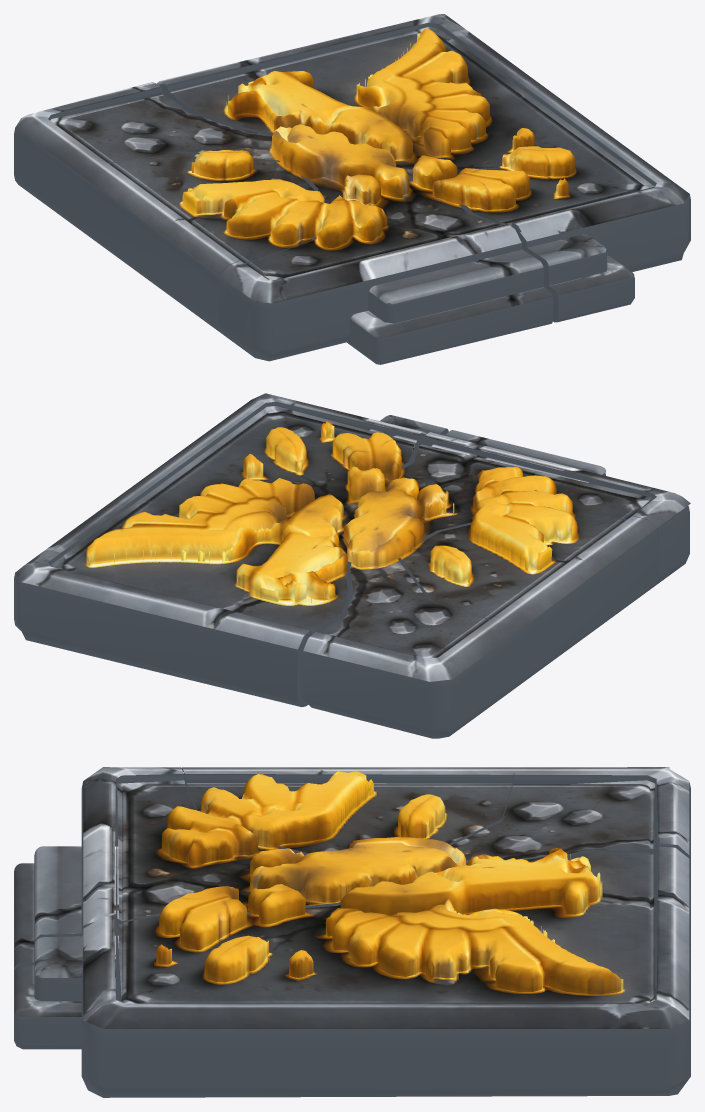
The model's file is eagle-destroyed-photo.glb.
3 views of the same model, one above another, from view 1: azimuth 30°, elevation 25°; view 2: azimuth 150°, elevation 25°; view 3: azimuth 270°, elevation 25° (orthographic). The views are drawn at different scales.
Visible parts, largest first — view 1: Fragment_6, Fragment_7, Fragment_1, BrokenGoldPiece00, Fragment_0, BrokenGoldPiece21, Fragment_8, Fragment_10, Fragment_2, BrokenGoldPiece17, Fragment_9, BrokenGoldPiece11 (+4 smaller); view 2: Fragment_6, Fragment_7, Fragment_1, BrokenGoldPiece00, Fragment_0, Fragment_2, BrokenGoldPiece21, BrokenGoldPiece17, BrokenGoldPiece11, Fragment_10, BrokenGoldPiece19, BrokenGoldPiece08 (+2 smaller); view 3: Fragment_7, Fragment_1, BrokenGoldPiece00, Fragment_0, Fragment_6, BrokenGoldPiece21, BrokenGoldPiece17, Fragment_2, Fragment_10, Fragment_9, BrokenGoldPiece11, Fragment_11 (+5 smaller).
Part boxes in pixels (x1,y1,x2,y2): Fragment_6: (14, 82, 522, 361); Fragment_7: (156, 14, 690, 271); Fragment_1: (170, 30, 648, 227); BrokenGoldPiece00: (227, 28, 489, 159); Fragment_0: (53, 95, 500, 279); BrokenGoldPiece21: (182, 179, 387, 247); Fragment_8: (346, 287, 552, 364); Fragment_10: (368, 249, 543, 323); Fragment_2: (110, 152, 313, 262); BrokenGoldPiece17: (272, 124, 409, 204); Fragment_9: (544, 254, 634, 322); BrokenGoldPiece11: (432, 168, 529, 209); Fragment_6: (302, 432, 690, 738); Fragment_7: (14, 393, 426, 707); Fragment_1: (55, 409, 415, 635); BrokenGoldPiece00: (86, 478, 347, 602); Fragment_0: (322, 445, 648, 658); Fragment_2: (398, 512, 624, 619); BrokenGoldPiece21: (470, 466, 577, 570); BrokenGoldPiece17: (343, 477, 448, 567); BrokenGoldPiece11: (332, 432, 401, 480); Fragment_10: (431, 430, 605, 482); BrokenGoldPiece19: (266, 427, 306, 472); BrokenGoldPiece08: (430, 545, 471, 583); Fragment_7: (81, 846, 690, 1097); Fragment_1: (122, 852, 650, 1003); BrokenGoldPiece00: (325, 848, 623, 994); Fragment_0: (122, 784, 650, 922); Fragment_6: (81, 767, 690, 935); BrokenGoldPiece21: (162, 771, 373, 865); BrokenGoldPiece17: (249, 837, 465, 902); Fragment_2: (187, 784, 512, 854); Fragment_10: (34, 846, 118, 944); Fragment_9: (14, 965, 81, 1049); BrokenGoldPiece11: (159, 886, 247, 950); Fragment_11: (34, 935, 118, 1001).
Bounding box in the file's own units: 1 × 0.191 × 1.11.
Materials: 3 (2 with a texture image).
